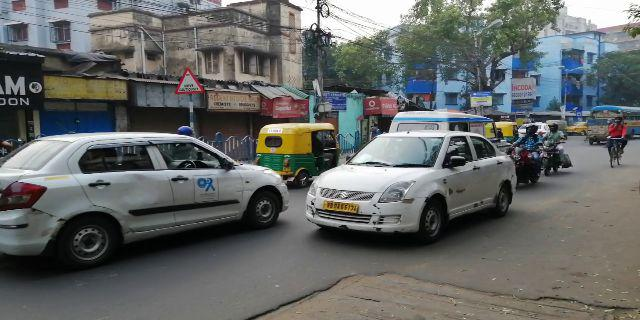Autorickshaw: (256, 118, 344, 179)
Car: (3, 129, 280, 252), (310, 132, 514, 242)
Cycle: (607, 117, 630, 168)
Motorbike: (509, 123, 544, 188), (539, 123, 569, 177)
